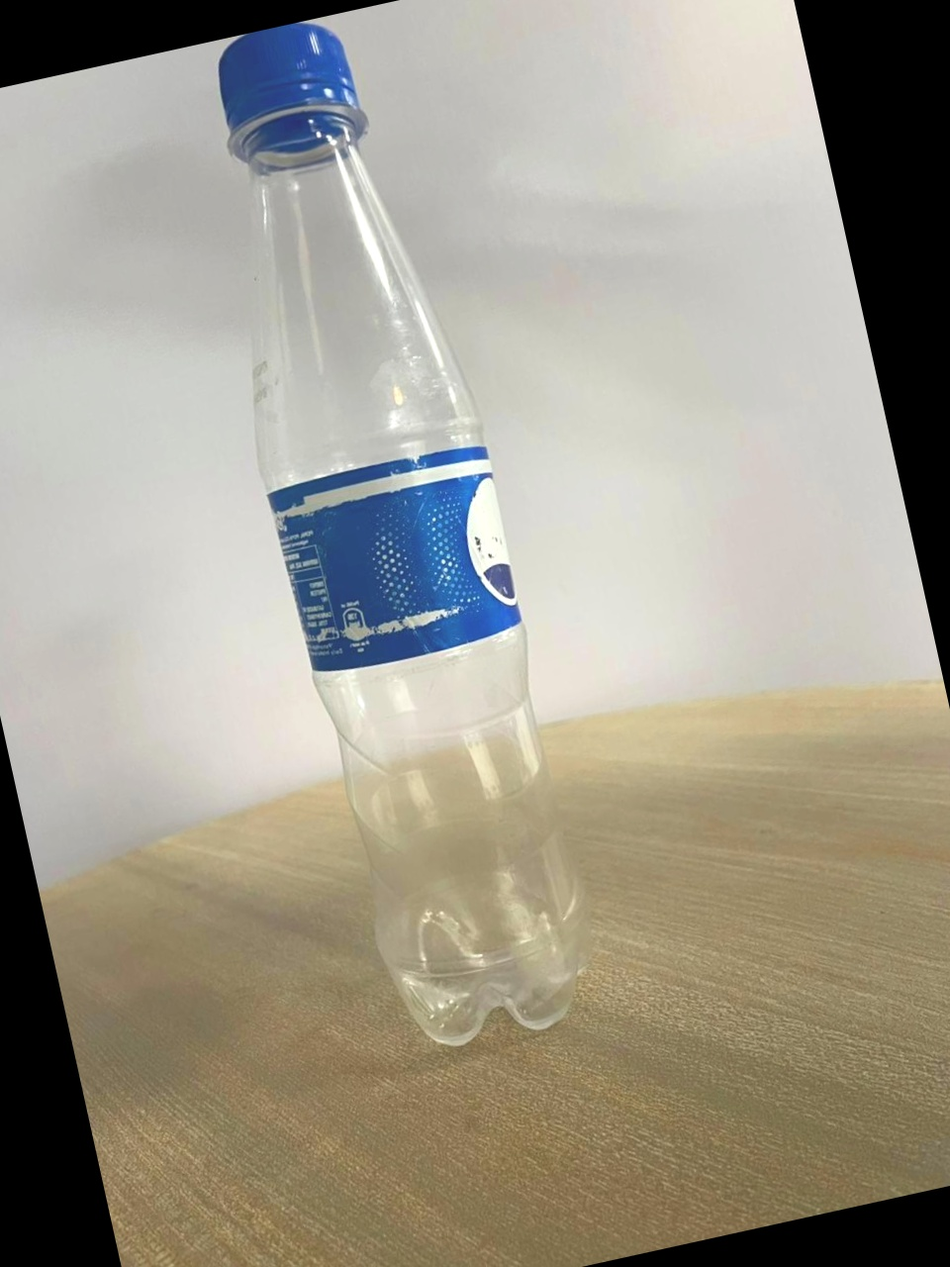Pepsi Bottle: (144, 0, 630, 1090), (148, 0, 629, 1086)
